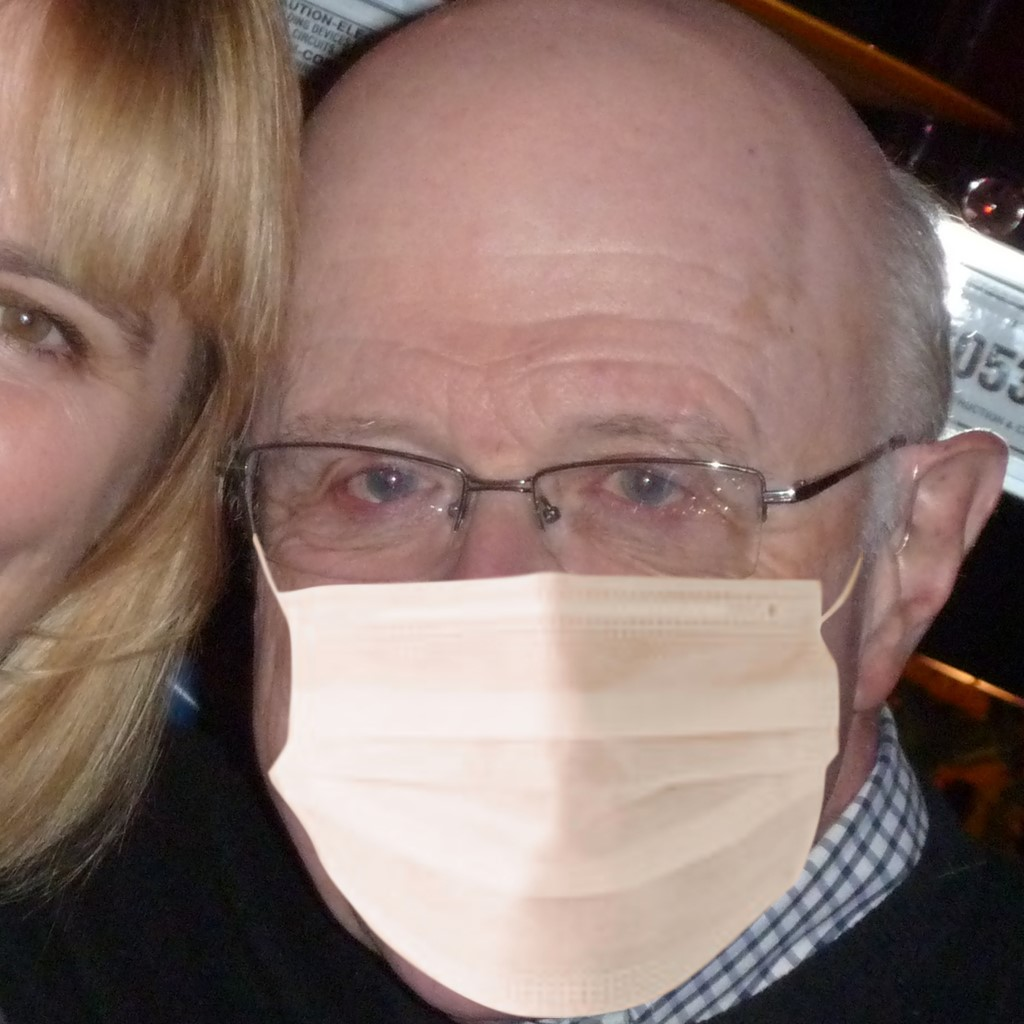con_mascara: (212, 98, 917, 998)
